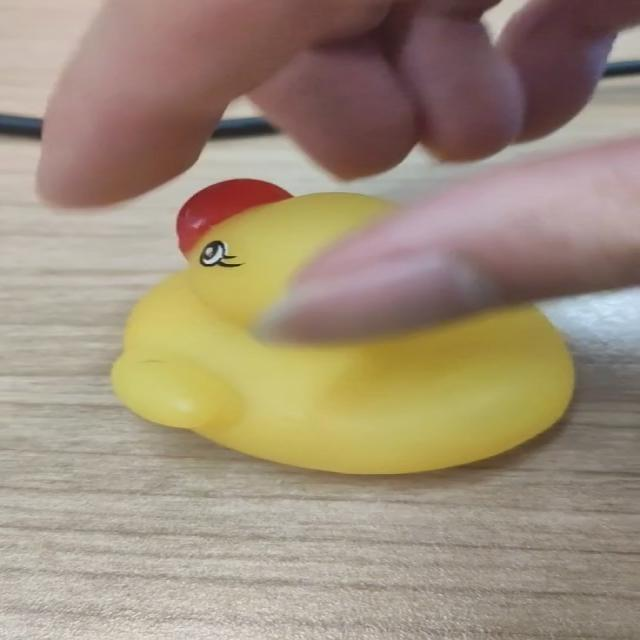rubber-duck: (111, 178, 572, 472)
